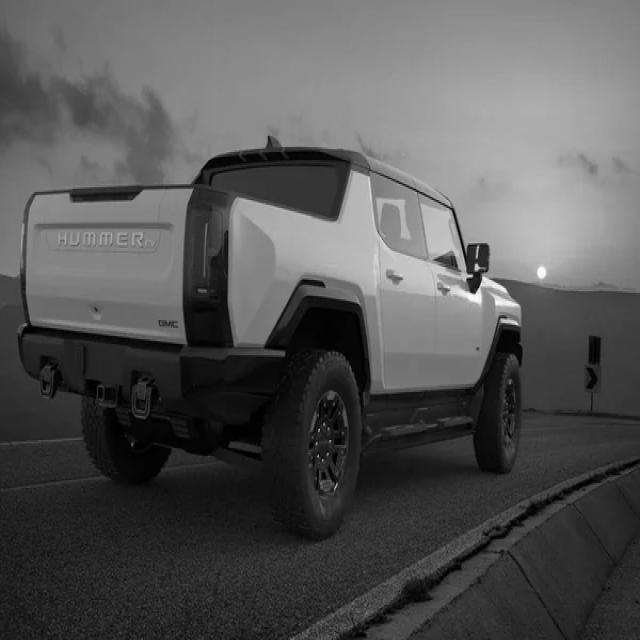Car: (18, 138, 523, 540)
